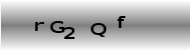2: (62, 26, 77, 40)
G: (49, 20, 65, 34)
Q: (90, 22, 108, 38)
f: (116, 15, 127, 29)
r: (33, 21, 45, 32)
